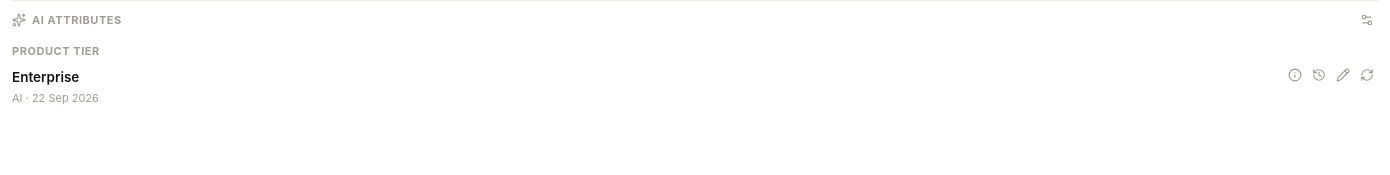
Scenario: AIAttributesPanel › says when the reasoning is withheld because the reader cannot see its records
Expected: the text "Enterprise" is shown, [12,68,79,84]
Click the button named "Why Product tier: Enterprise?" at (1295, 74), box [1284,64,1306,86]
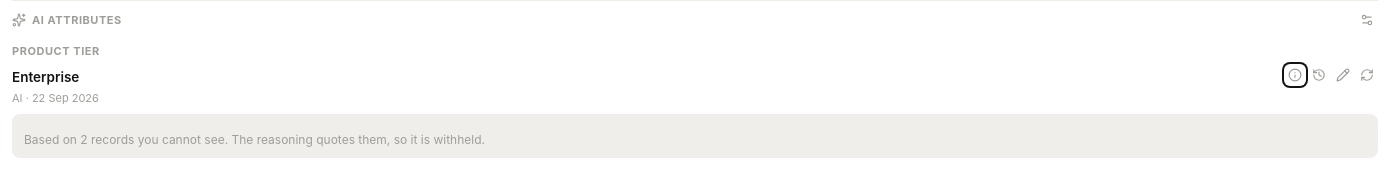
Expected: the text "Based on 2 records you cannot see" is shown, [24,132,485,147]
